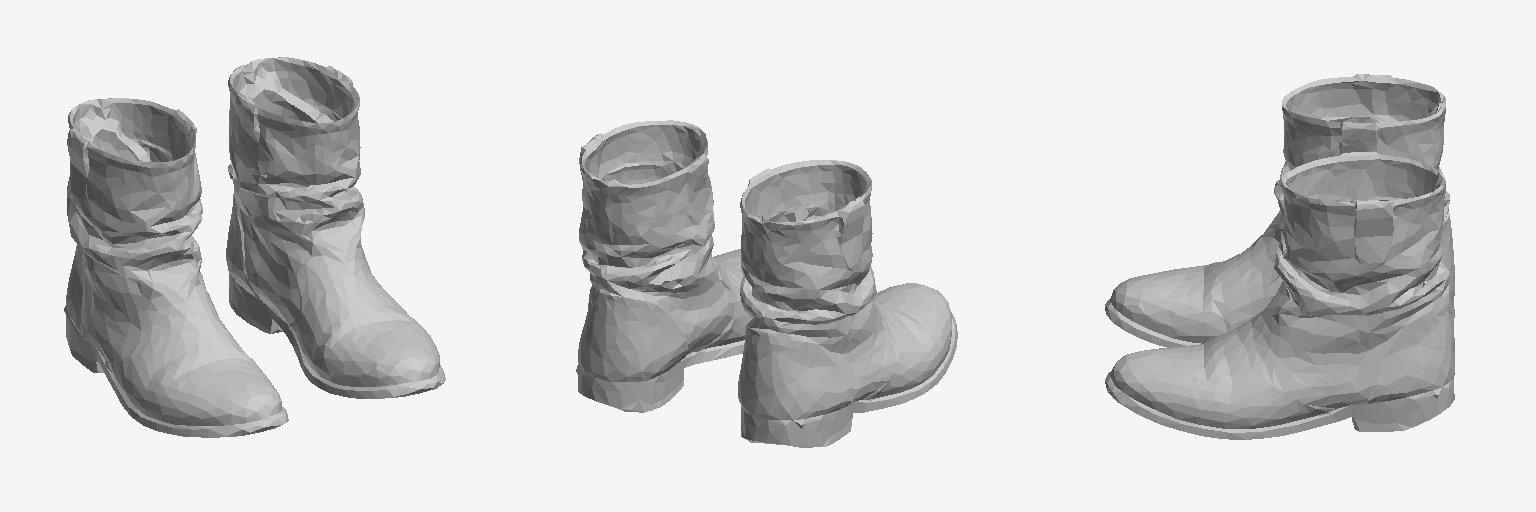
Rendered from Womens Boots 2 Low Poly.obj.
The picture shows the model from 3 angles: view 1: azimuth 30°, elevation 25°; view 2: azimuth 150°, elevation 25°; view 3: azimuth 270°, elevation 25°; orthographic projection.
Visible parts, largest first — view 1: RIGHT WOMEN_BOOTS_2_LOW_POLY, WOMEN_BOOTS_2_LOW_POLY LEFT; view 2: RIGHT WOMEN_BOOTS_2_LOW_POLY, WOMEN_BOOTS_2_LOW_POLY LEFT; view 3: WOMEN_BOOTS_2_LOW_POLY LEFT, RIGHT WOMEN_BOOTS_2_LOW_POLY.
Part boxes in pixels (x1,y1,x2,y2): RIGHT WOMEN_BOOTS_2_LOW_POLY: (64,98,288,437); WOMEN_BOOTS_2_LOW_POLY LEFT: (226,57,445,398); RIGHT WOMEN_BOOTS_2_LOW_POLY: (738,160,957,447); WOMEN_BOOTS_2_LOW_POLY LEFT: (576,120,751,412); WOMEN_BOOTS_2_LOW_POLY LEFT: (1105,151,1454,439); RIGHT WOMEN_BOOTS_2_LOW_POLY: (1105,74,1454,347).
Bounding box in the file's own units: 1.38 × 1.12 × 1.49.